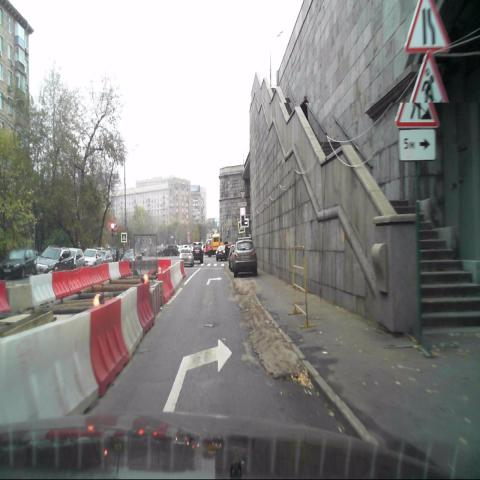1_20_2: (406, 0, 453, 58)
8_1_3: (399, 129, 437, 162)
